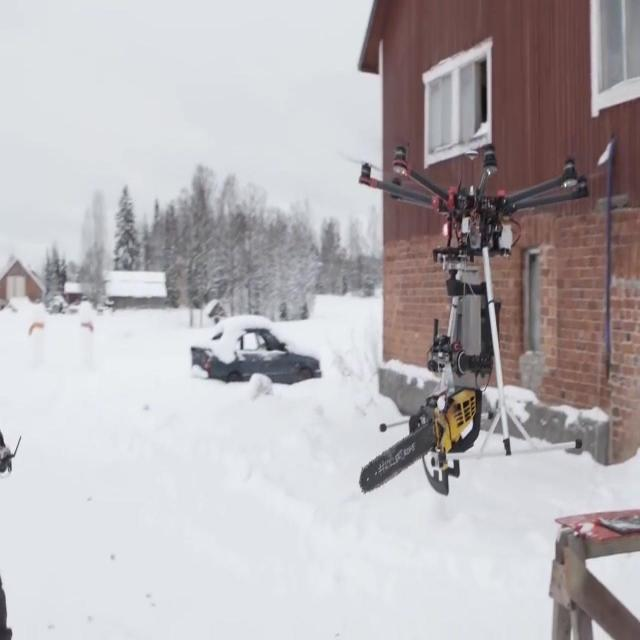drone: (357, 140, 591, 378)
